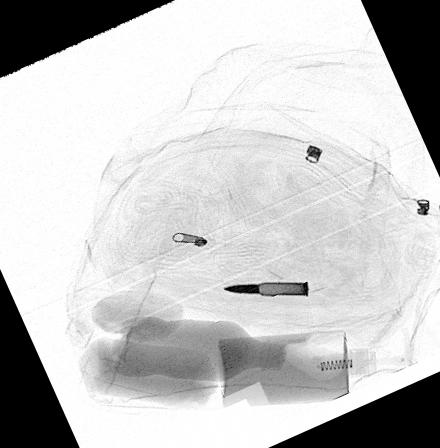Bullet: (222, 280, 308, 297)
